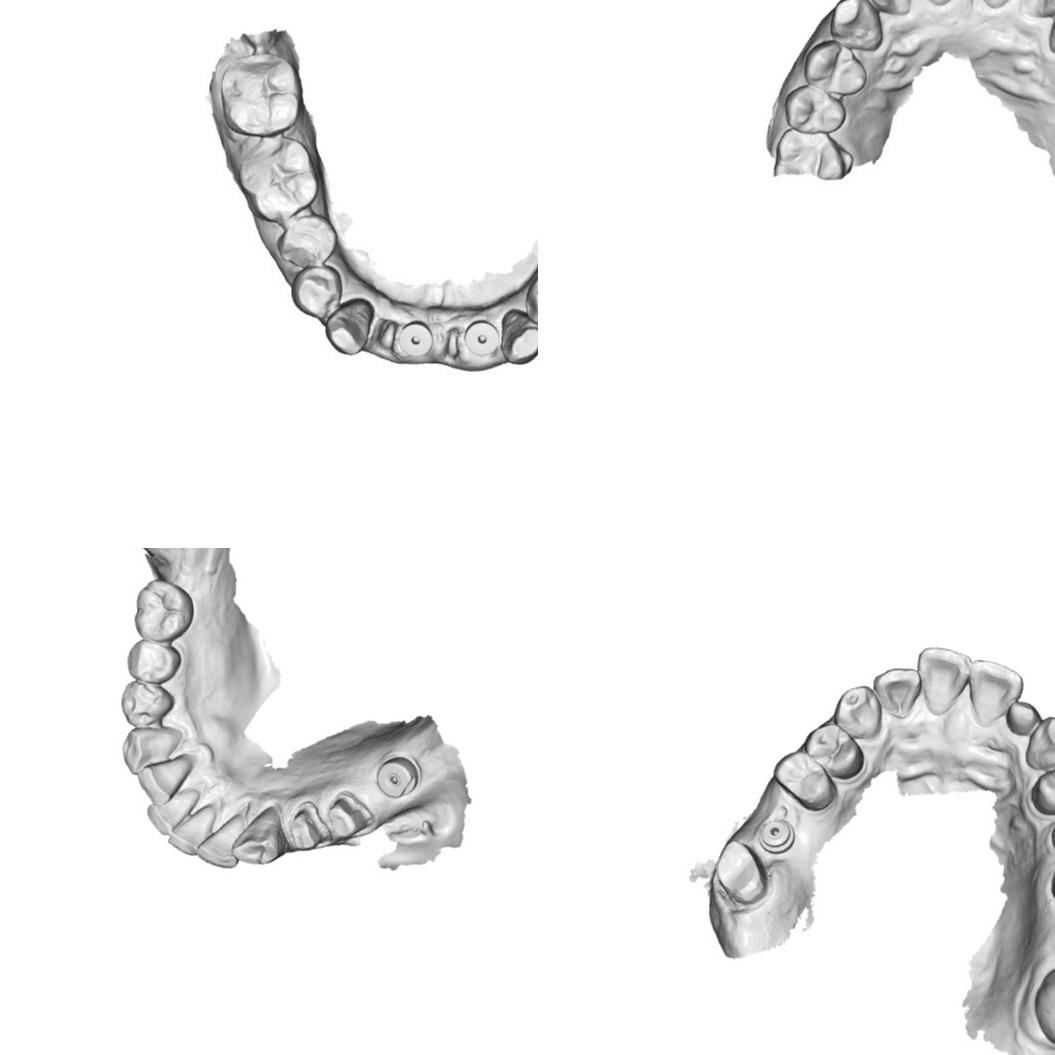canine: (121, 722, 184, 776), (231, 804, 285, 866), (827, 0, 885, 52), (832, 684, 883, 741), (324, 299, 373, 356), (500, 308, 538, 364), (1024, 715, 1055, 771)
crown: (714, 840, 772, 910), (327, 789, 372, 840), (288, 805, 325, 852)
implant: (376, 756, 421, 800), (756, 817, 797, 854), (396, 319, 434, 356), (463, 319, 500, 356)
incisor: (916, 645, 970, 716), (968, 659, 1024, 727), (136, 754, 193, 807), (196, 810, 242, 870), (145, 787, 200, 837), (167, 803, 217, 858), (872, 667, 922, 719), (1006, 700, 1042, 737), (863, 0, 915, 16), (1020, 0, 1055, 18)
molar: (236, 134, 319, 224), (219, 51, 303, 138), (132, 577, 194, 643), (1032, 966, 1055, 1051)
premolar: (770, 749, 839, 813), (801, 38, 868, 96), (802, 722, 866, 780), (276, 212, 338, 270), (782, 84, 847, 135), (290, 265, 344, 320), (120, 677, 175, 727), (124, 638, 182, 685), (1030, 764, 1055, 817), (524, 270, 538, 327)
